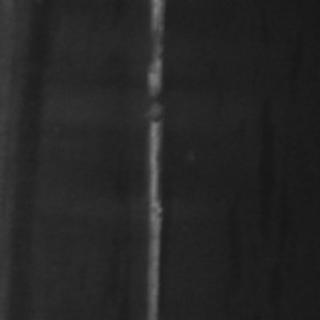scratches: (140, 0, 168, 318)
